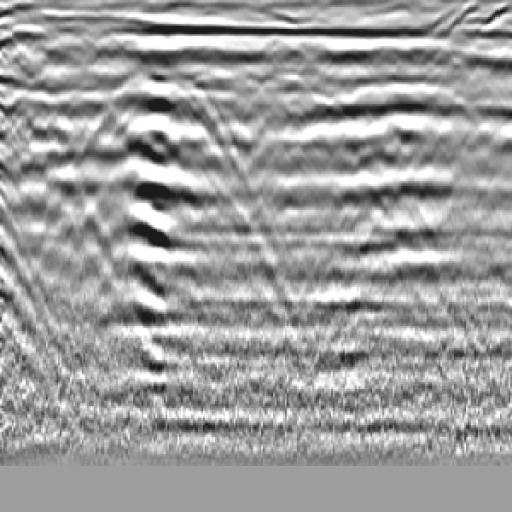metalic: (161, 63, 241, 179)
